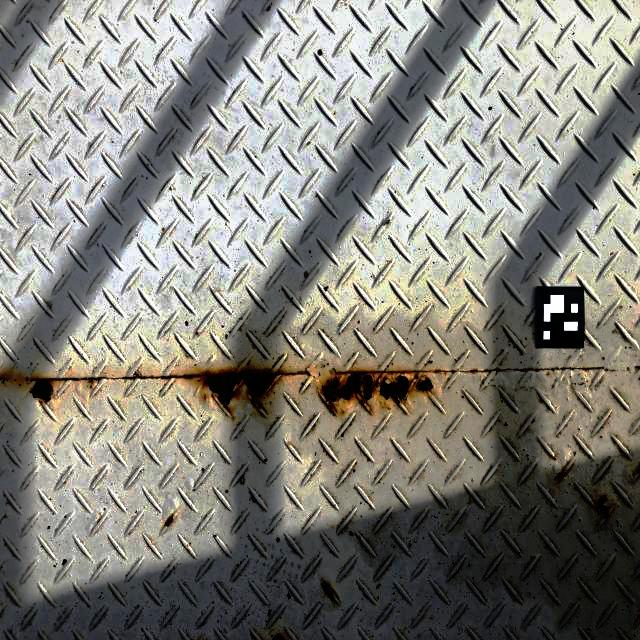Corrosion: (169, 365, 300, 416), (321, 368, 436, 418), (27, 373, 57, 407), (595, 494, 610, 520), (321, 582, 335, 599), (84, 377, 104, 388), (163, 511, 175, 529), (272, 632, 286, 640), (556, 471, 565, 482), (0, 376, 10, 384), (637, 469, 640, 475)
